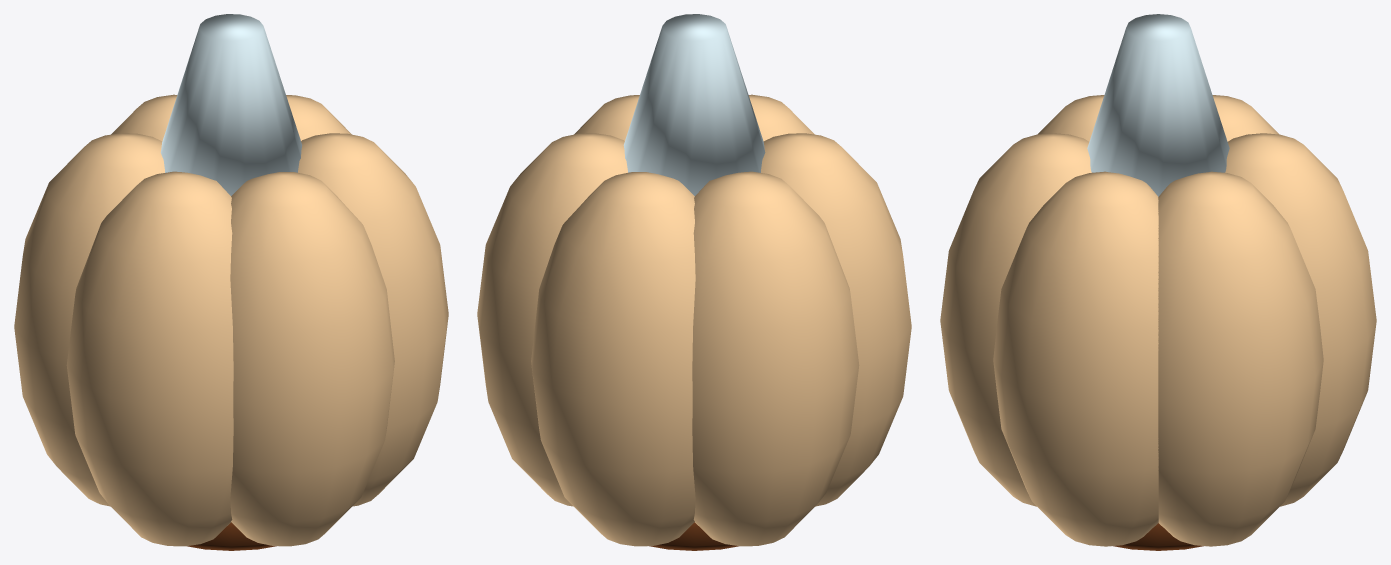
Rendered from garlic.glb.
3 renders of one model, left to right at view 1: azimuth 30°, elevation 25°; view 2: azimuth 150°, elevation 25°; view 3: azimuth 270°, elevation 25°, orthographic.
Parts seen in each view (by area): view 1: garlic; view 2: garlic; view 3: garlic.
Part boxes in pixels (box(x1,y1,x2,y2)): garlic: box(14, 14, 448, 550); garlic: box(477, 14, 911, 550); garlic: box(940, 14, 1376, 550).
Size of the model in its own units: 0.7712 by 1 by 0.8244.
1 material, 1 textured.
